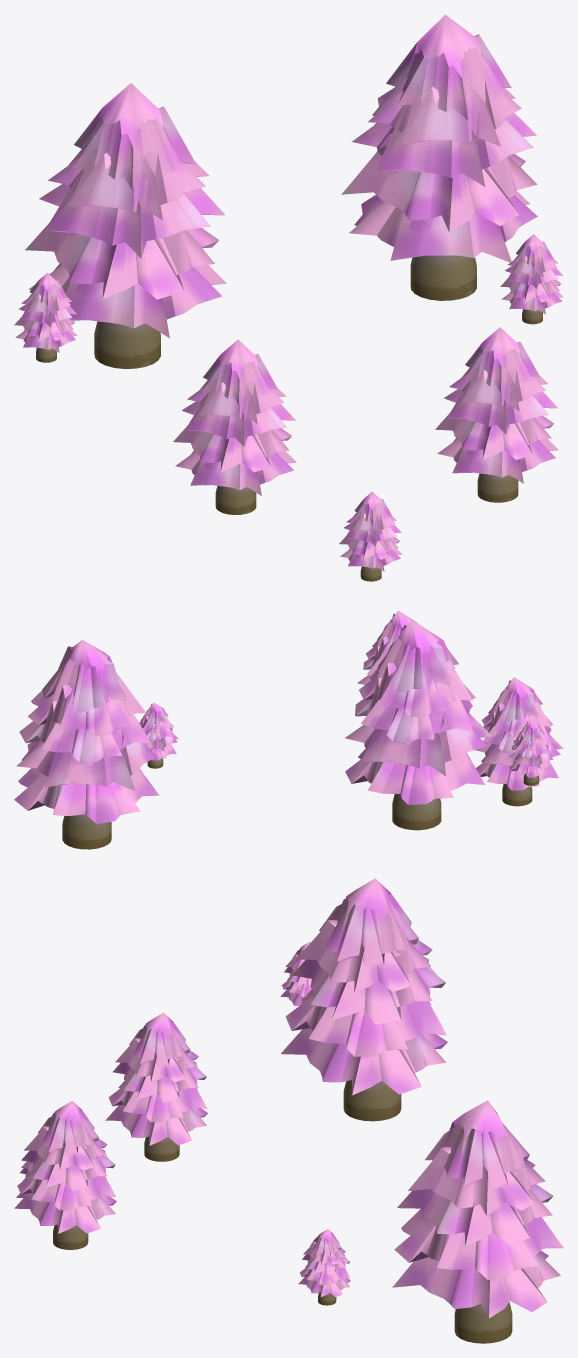
Rendered from pinktrees.fbx.
3 renders of one model, top to bottom at view 1: azimuth 30°, elevation 25°; view 2: azimuth 150°, elevation 25°; view 3: azimuth 270°, elevation 25°, orthographic. The views are drawn at different scales.
Visible parts, largest first — view 1: group26_pasted__pCone2, group26_pasted__pCone2.003, group26_pasted__pCone2.012, group26_pasted__pCone2.013, group26_pasted__pCone2.011, group26_pasted__pCone2.015, group26_pasted__pCone2.016; view 2: group26_pasted__pCone2, group26_pasted__pCone2.003, group26_pasted__pCone2.013, group26_pasted__pCone2.015, group26_pasted__pCone2.016, group26_pasted__pCone2.012; view 3: group26_pasted__pCone2, group26_pasted__pCone2.003, group26_pasted__pCone2.013, group26_pasted__pCone2.012, group26_pasted__pCone2.016, group26_pasted__pCone2.015.
Part boxes in pixels (box(x1,y1,x2,y2)): group26_pasted__pCone2: box(341, 14, 537, 300); group26_pasted__pCone2.003: box(25, 83, 226, 368); group26_pasted__pCone2.012: box(435, 327, 558, 502); group26_pasted__pCone2.013: box(173, 339, 296, 514); group26_pasted__pCone2.011: box(339, 491, 402, 581); group26_pasted__pCone2.015: box(14, 272, 77, 362); group26_pasted__pCone2.016: box(500, 234, 563, 324); group26_pasted__pCone2: box(14, 640, 159, 849); group26_pasted__pCone2.003: box(345, 620, 492, 830); group26_pasted__pCone2.013: box(475, 677, 563, 806); group26_pasted__pCone2.015: box(509, 720, 554, 785); group26_pasted__pCone2.016: box(139, 702, 178, 768); group26_pasted__pCone2.012: box(357, 610, 417, 684); group26_pasted__pCone2: box(392, 1100, 563, 1343); group26_pasted__pCone2.003: box(281, 878, 447, 1121); group26_pasted__pCone2.013: box(105, 1012, 207, 1161); group26_pasted__pCone2.012: box(14, 1101, 116, 1249); group26_pasted__pCone2.016: box(298, 1229, 350, 1305); group26_pasted__pCone2.015: box(280, 942, 311, 1005).
Bounding box in the file's own units: 23014 × 13106 × 20650.
Materials: 7 (7 with a texture image).
